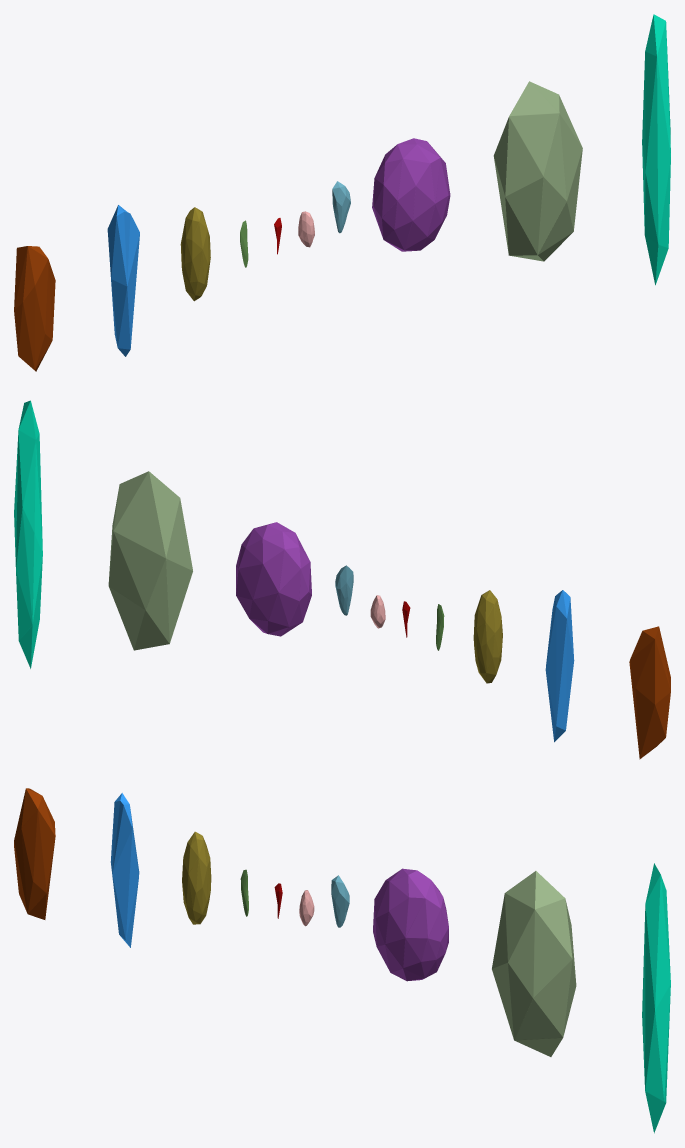
Rendered from Cristals_pieces.obj.
3 renders of one model, top to bottom at view 1: azimuth 30°, elevation 25°; view 2: azimuth 150°, elevation 25°; view 3: azimuth 330°, elevation 25°, orthographic.
Visible parts, largest first — view 1: ZBrushPolyMesh3D_1, ZBrushPolyMesh3D_4, ZBrushPolyMesh3D, ZBrushPolyMesh3D_2, ZBrushPolyMesh3D_3, ZBrushPolyMesh3D_5, ZBrushPolyMesh3D_7; view 2: ZBrushPolyMesh3D_1, ZBrushPolyMesh3D_4, ZBrushPolyMesh3D, ZBrushPolyMesh3D_2, ZBrushPolyMesh3D_3, ZBrushPolyMesh3D_5, ZBrushPolyMesh3D_7; view 3: ZBrushPolyMesh3D_1, ZBrushPolyMesh3D_4, ZBrushPolyMesh3D, ZBrushPolyMesh3D_2, ZBrushPolyMesh3D_3, ZBrushPolyMesh3D_5, ZBrushPolyMesh3D_7.
Boxes of the visible parts, x1=… form: ZBrushPolyMesh3D_1: x1=493, y1=81, x2=582, y2=261; ZBrushPolyMesh3D_4: x1=372, y1=138, x2=450, y2=251; ZBrushPolyMesh3D: x1=642, y1=14, x2=670, y2=285; ZBrushPolyMesh3D_2: x1=14, y1=246, x2=55, y2=371; ZBrushPolyMesh3D_3: x1=107, y1=205, x2=139, y2=356; ZBrushPolyMesh3D_5: x1=180, y1=207, x2=210, y2=301; ZBrushPolyMesh3D_7: x1=332, y1=181, x2=350, y2=233; ZBrushPolyMesh3D_1: x1=108, y1=471, x2=192, y2=650; ZBrushPolyMesh3D_4: x1=236, y1=522, x2=311, y2=636; ZBrushPolyMesh3D: x1=14, y1=400, x2=42, y2=668; ZBrushPolyMesh3D_2: x1=629, y1=626, x2=670, y2=759; ZBrushPolyMesh3D_3: x1=545, y1=590, x2=574, y2=742; ZBrushPolyMesh3D_5: x1=473, y1=590, x2=502, y2=683; ZBrushPolyMesh3D_7: x1=335, y1=565, x2=353, y2=615; ZBrushPolyMesh3D_1: x1=492, y1=871, x2=576, y2=1056; ZBrushPolyMesh3D_4: x1=373, y1=868, x2=448, y2=981; ZBrushPolyMesh3D: x1=642, y1=863, x2=670, y2=1133; ZBrushPolyMesh3D_2: x1=14, y1=788, x2=55, y2=919; ZBrushPolyMesh3D_3: x1=110, y1=793, x2=139, y2=947; ZBrushPolyMesh3D_5: x1=182, y1=831, x2=211, y2=924; ZBrushPolyMesh3D_7: x1=331, y1=875, x2=349, y2=927.
Bounding box in the file's own units: 51.6 × 20.32 × 4.61.
